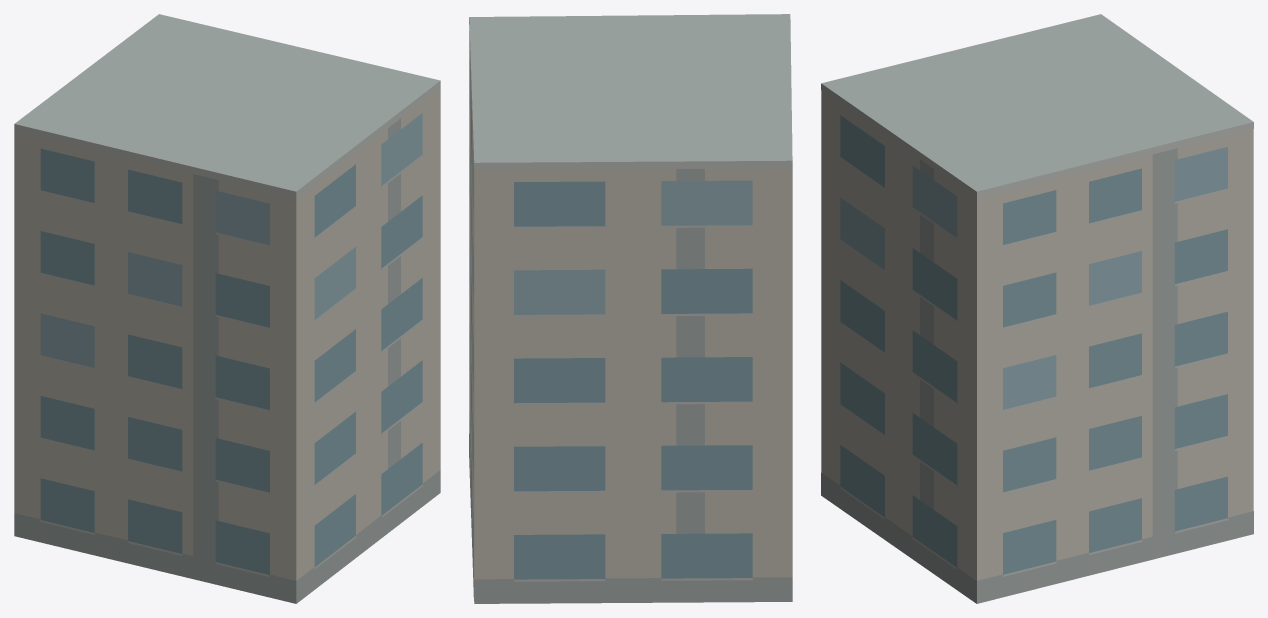
The model's file is survey-upis-32538256.glb.
3 views of the same model, side by side, from view 1: azimuth 30°, elevation 25°; view 2: azimuth 150°, elevation 25°; view 3: azimuth 270°, elevation 25° (orthographic). The views are drawn at different scales.
Visible parts, largest first — view 1: survey-upis-32538256.tmp; view 2: survey-upis-32538256.tmp; view 3: survey-upis-32538256.tmp.
Boxes of the visible parts, x1=… form: survey-upis-32538256.tmp: x1=14, y1=14, x2=440, y2=603; survey-upis-32538256.tmp: x1=469, y1=14, x2=792, y2=603; survey-upis-32538256.tmp: x1=821, y1=14, x2=1253, y2=603.
Bounding box in the file's own units: 13.23 × 14.3 × 13.62.
